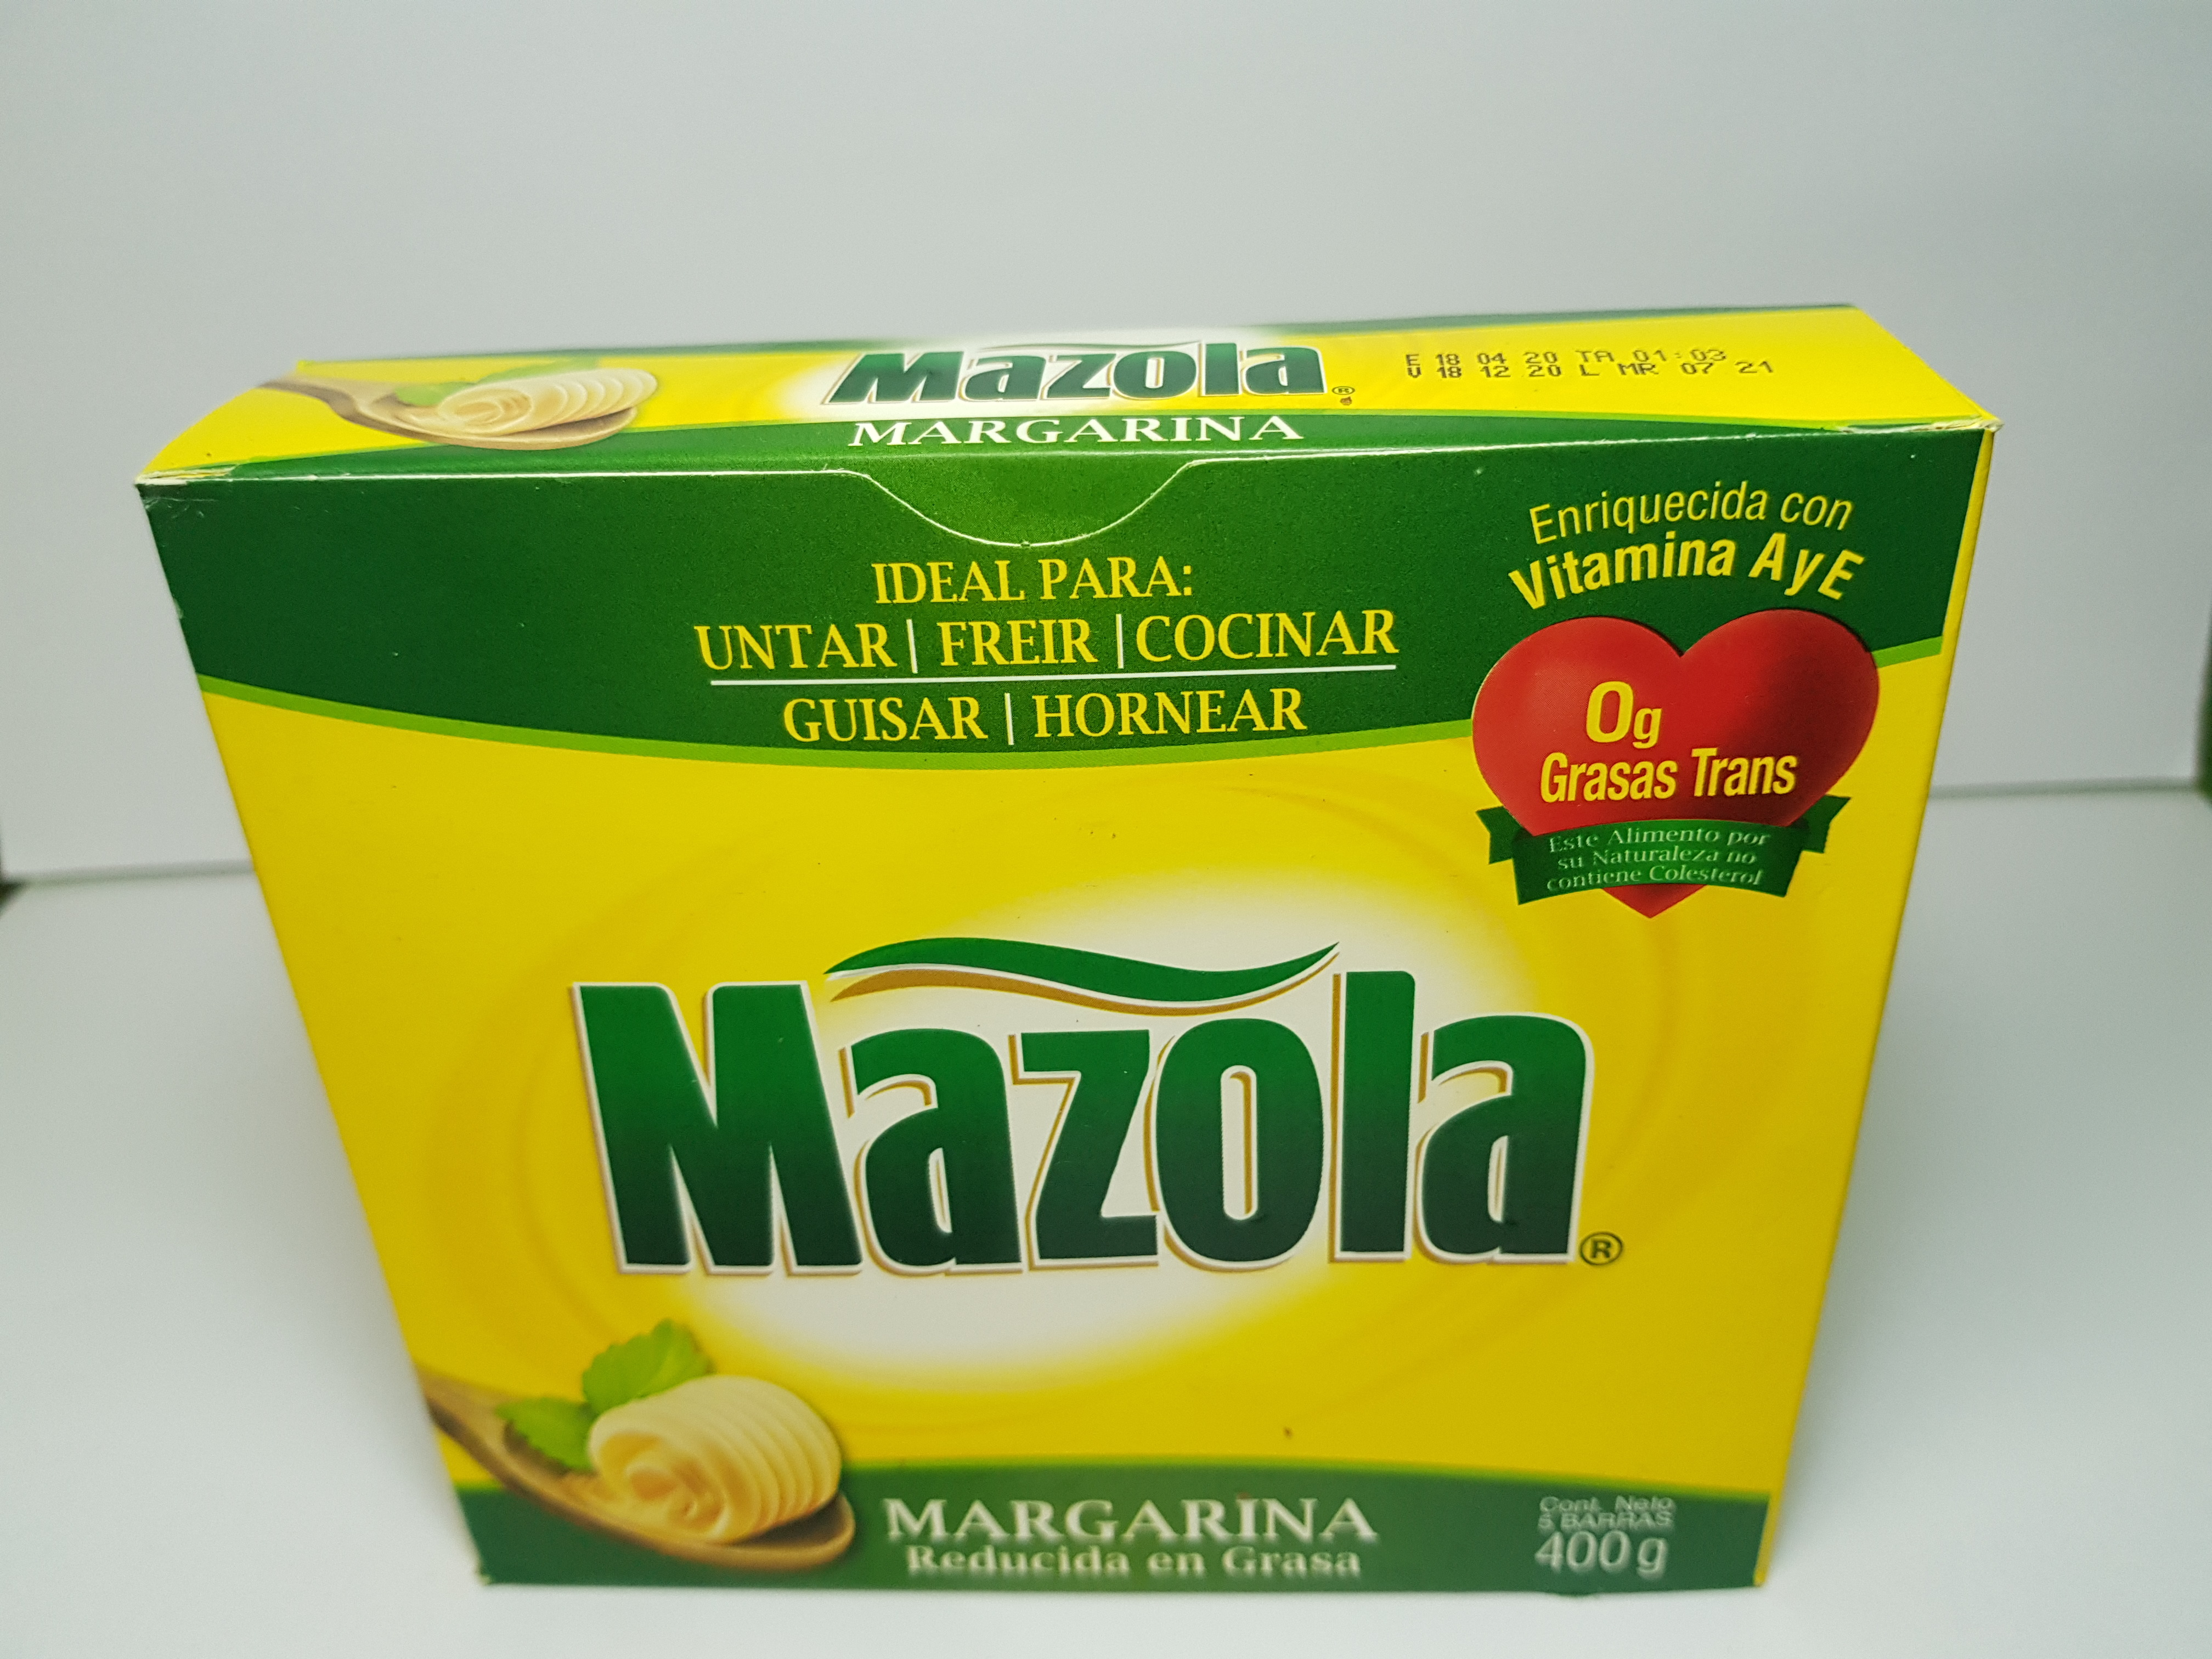mazola: (122, 277, 1987, 1659)
